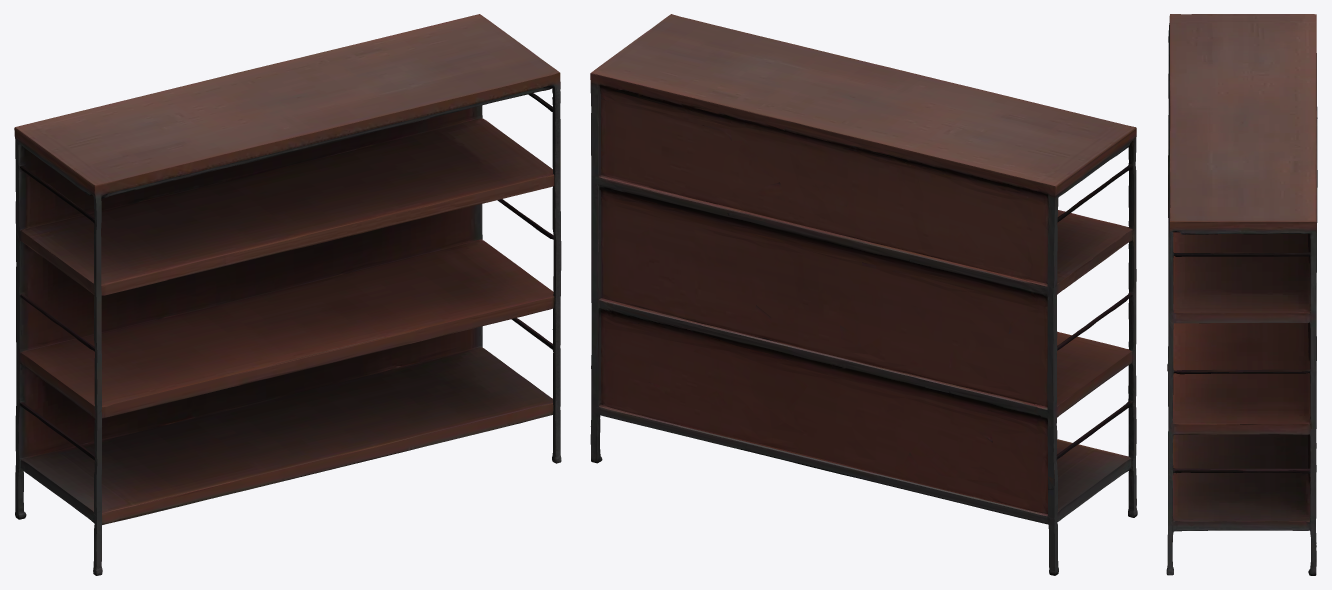
3 renders of one model, left to right at view 1: azimuth 30°, elevation 25°; view 2: azimuth 150°, elevation 25°; view 3: azimuth 270°, elevation 25°, orthographic. The views are drawn at different scales.
Visible parts, largest first — view 1: world; view 2: world; view 3: world.
Part boxes in pixels (<box>): world: <box>14,14,561,575</box>; world: <box>590,14,1137,575</box>; world: <box>1166,14,1317,575</box>.
Size of the model in its own units: 1 by 0.8011 by 0.3079.
Materials: 1 (1 with a texture image).
